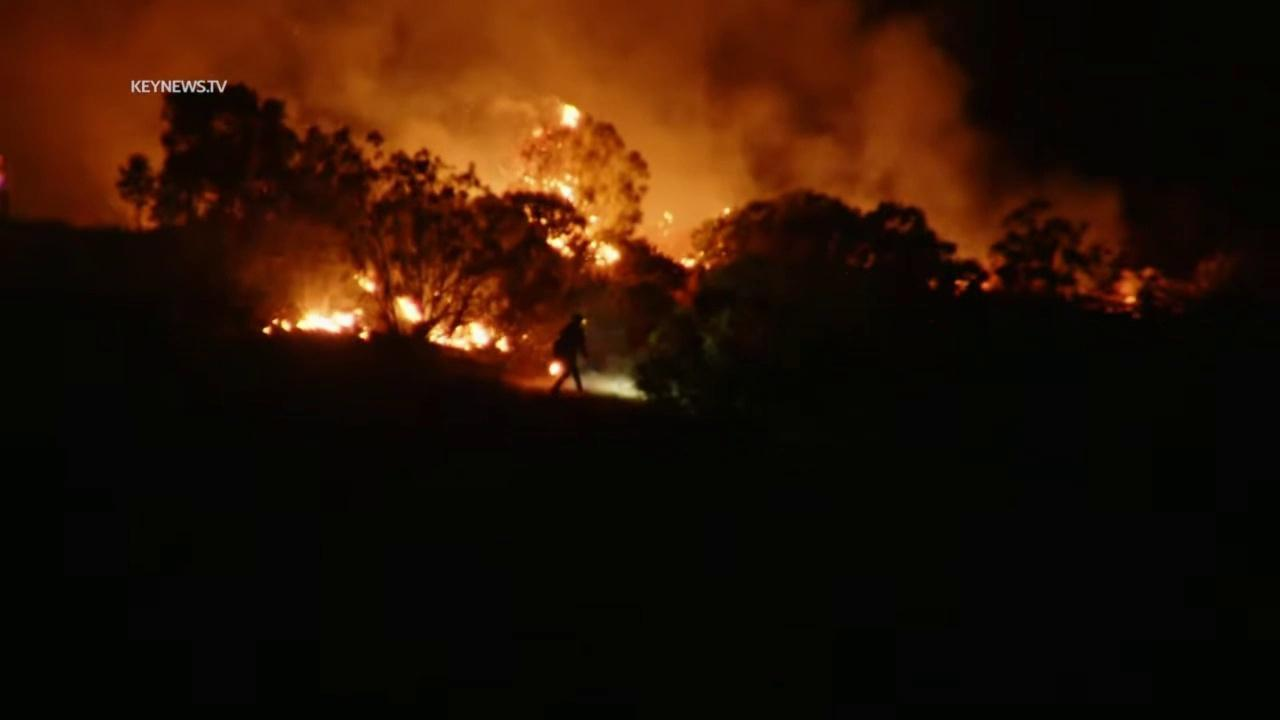fire: (261, 305, 376, 344), (542, 215, 626, 268), (425, 317, 512, 353), (523, 172, 583, 209), (391, 292, 426, 323), (673, 249, 712, 271), (351, 267, 380, 296), (553, 101, 581, 130), (547, 357, 563, 376), (661, 209, 674, 226), (1120, 294, 1138, 305), (720, 207, 733, 218)
smoke: (0, 0, 1140, 316)
